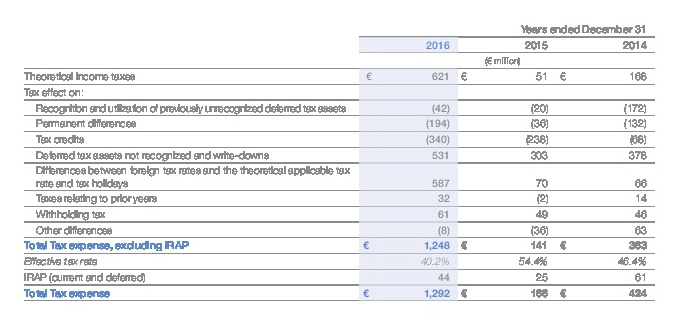table: (0, 0, 677, 317)
